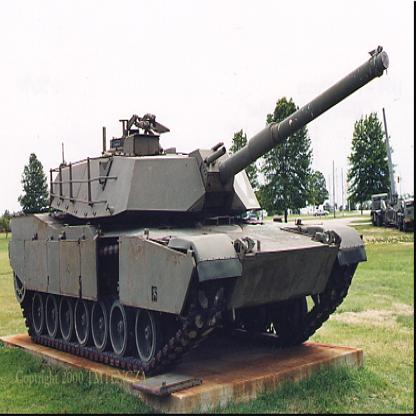Tank: (9, 102, 374, 377)
